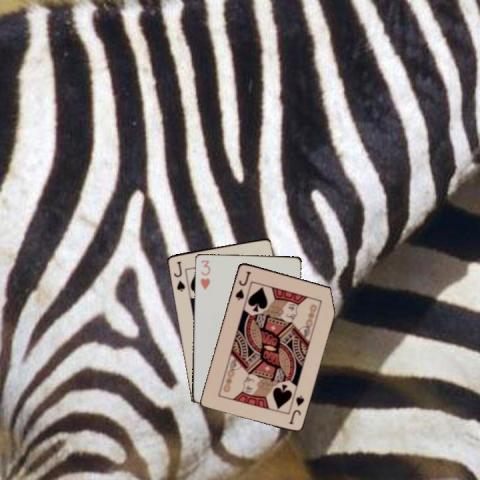3h: (198, 256, 212, 290)
Js: (232, 268, 253, 301), (286, 392, 305, 425), (171, 258, 186, 293)
